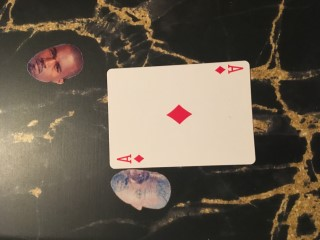AceOfDiamonds: (106, 60, 256, 169)
